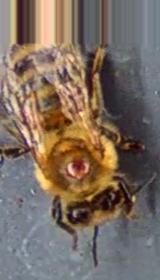varroa_mite: (58, 150, 96, 186)
